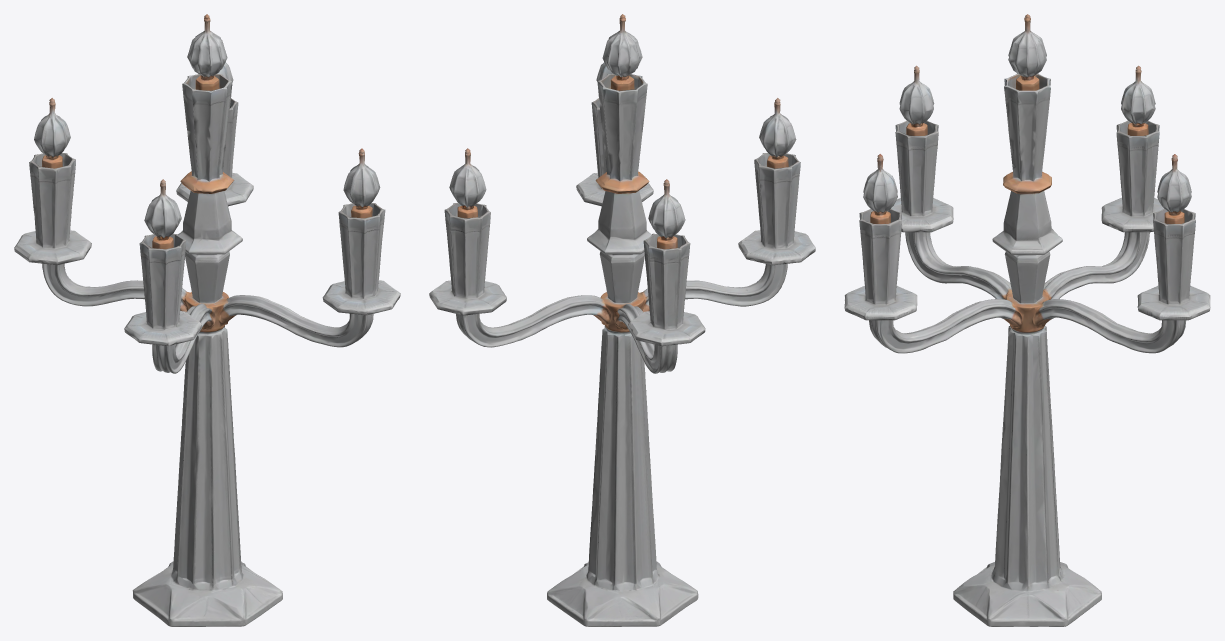
File: decor-candelabra-crystal.glb
3 renders of one model, left to right at view 1: azimuth 30°, elevation 25°; view 2: azimuth 150°, elevation 25°; view 3: azimuth 270°, elevation 25°, orthographic.
Parts seen in each view (by area): view 1: tripo_node_b9b1669f-75a0-4e84-a8a1-866426fe2304; view 2: tripo_node_b9b1669f-75a0-4e84-a8a1-866426fe2304; view 3: tripo_node_b9b1669f-75a0-4e84-a8a1-866426fe2304.
Boxes of the visible parts, x1,y1,x2,y2 form: tripo_node_b9b1669f-75a0-4e84-a8a1-866426fe2304: (14, 14, 400, 626); tripo_node_b9b1669f-75a0-4e84-a8a1-866426fe2304: (429, 14, 815, 626); tripo_node_b9b1669f-75a0-4e84-a8a1-866426fe2304: (844, 14, 1210, 626).
Bounding box in the file's own units: 0.2395 × 0.55 × 0.3114.
Materials: 1 (1 with a texture image).
